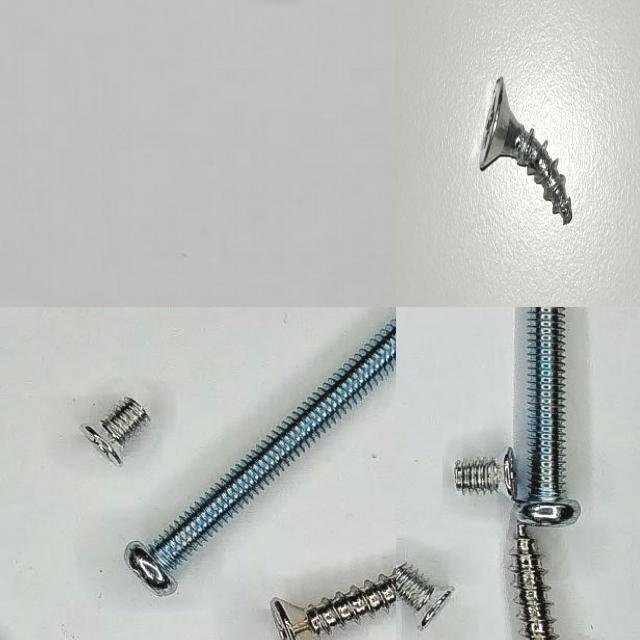Screw: (124, 316, 396, 596), (514, 307, 579, 526), (479, 76, 572, 223), (270, 569, 396, 640), (513, 524, 558, 640), (79, 397, 149, 465), (396, 564, 454, 631), (455, 448, 516, 499)
